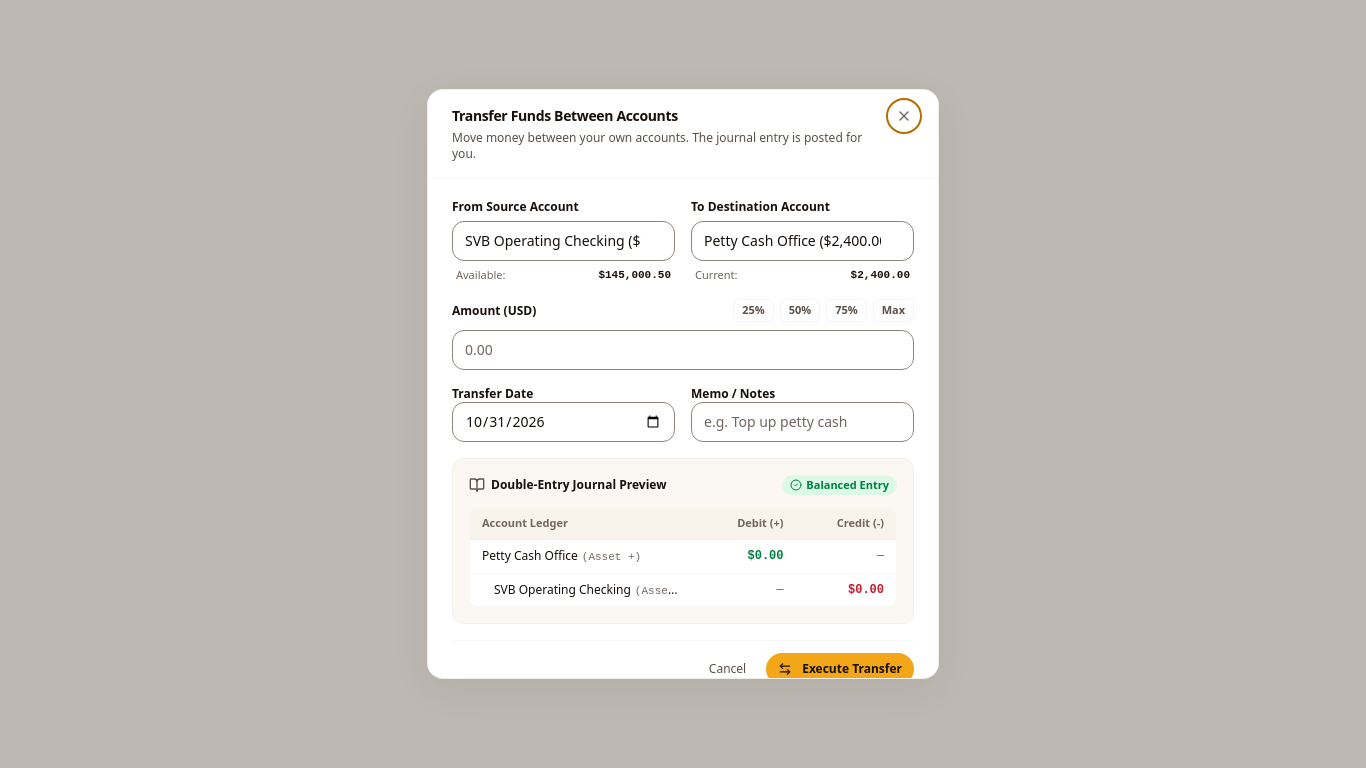
Test: TransferFundsModal Component › renders double-entry journal preview with balanced debit and credit entries
This screenshot has width=1366, height=768.
Type "5000" into the number field with test id "input-transfer-amount".
click(683, 350); type("5000")  # box [452,330,914,370]
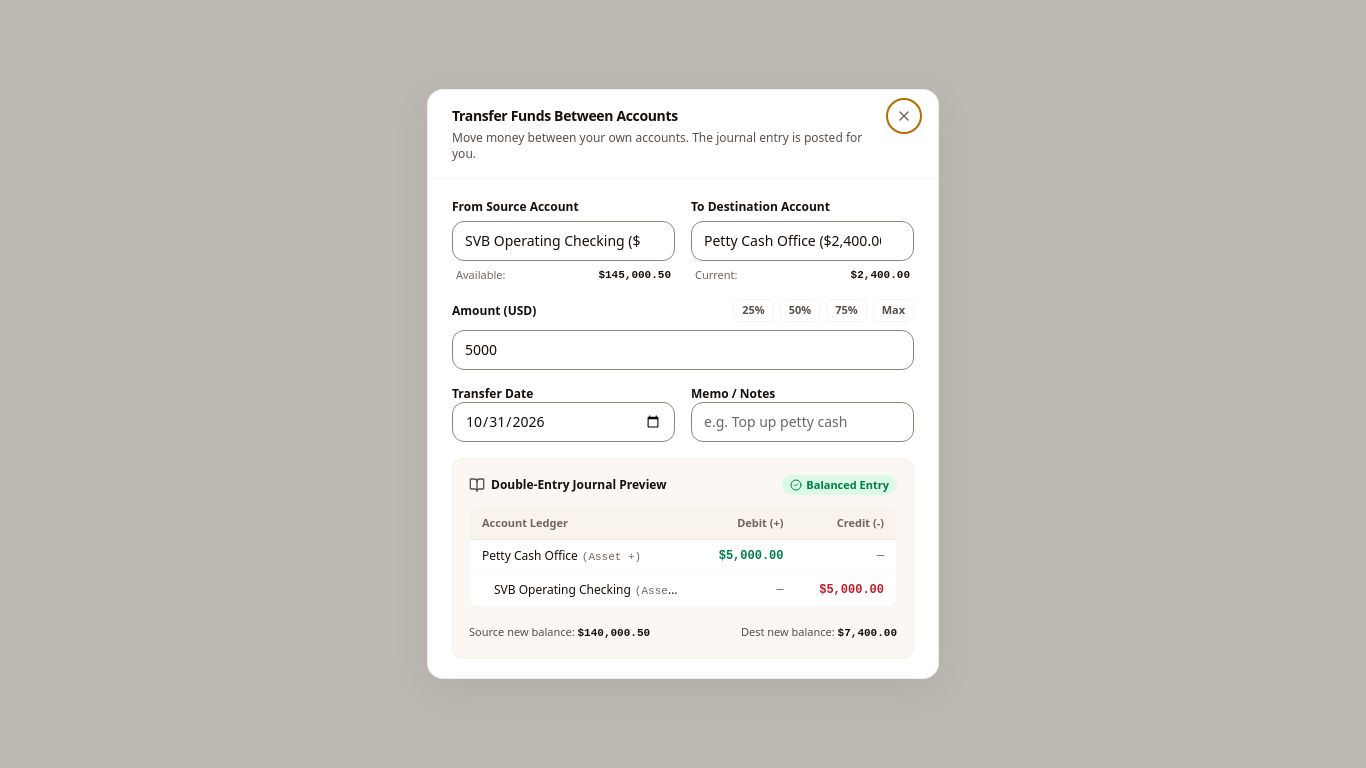
Now the element with test id "journal-debit-row" shows "$5,000.00", box [719,549,784,563]
Now the element with test id "journal-credit-row" shows "$5,000.00", box [819,583,884,597]
Now the element with test id "post-transfer-preview" shows "$140,000.50", box [578,627,650,639]
